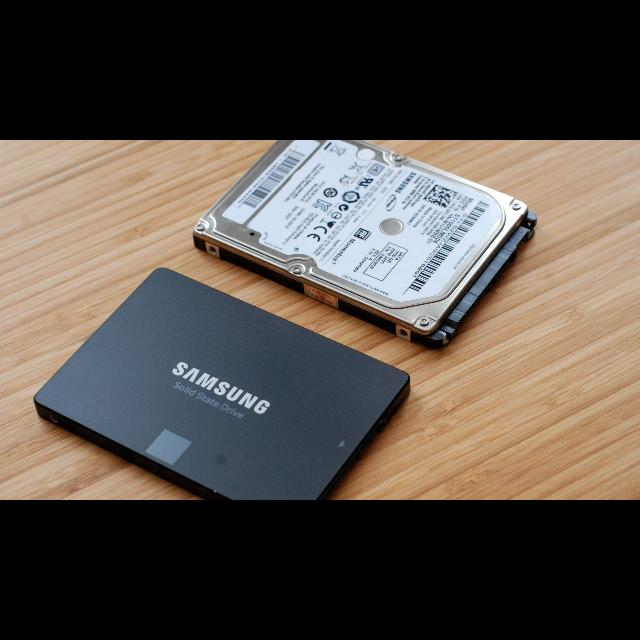HDD: (190, 140, 537, 350)
